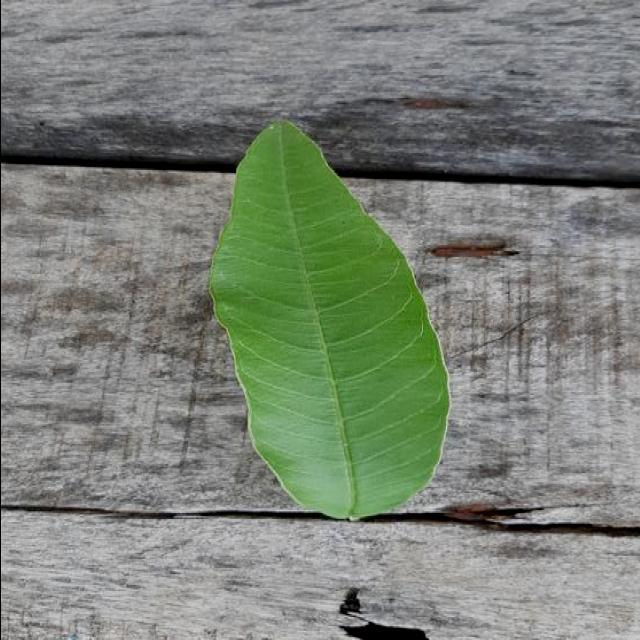leaf: (207, 118, 451, 521)
